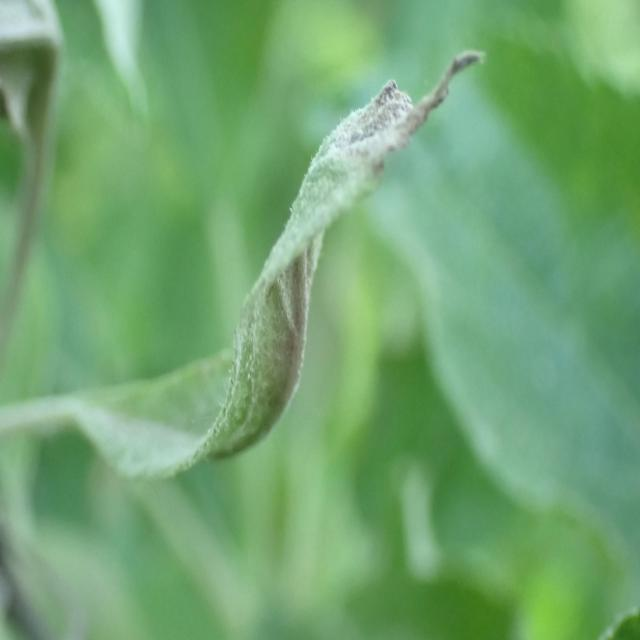Powdery_mildew: (79, 44, 487, 493)
